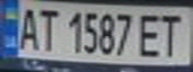1: (63, 7, 84, 54)
5: (78, 8, 100, 55)
7: (115, 9, 139, 56)
8: (97, 9, 118, 56)
A: (15, 3, 42, 52)
E: (136, 10, 166, 58)
T: (157, 10, 190, 58), (33, 5, 60, 53)
